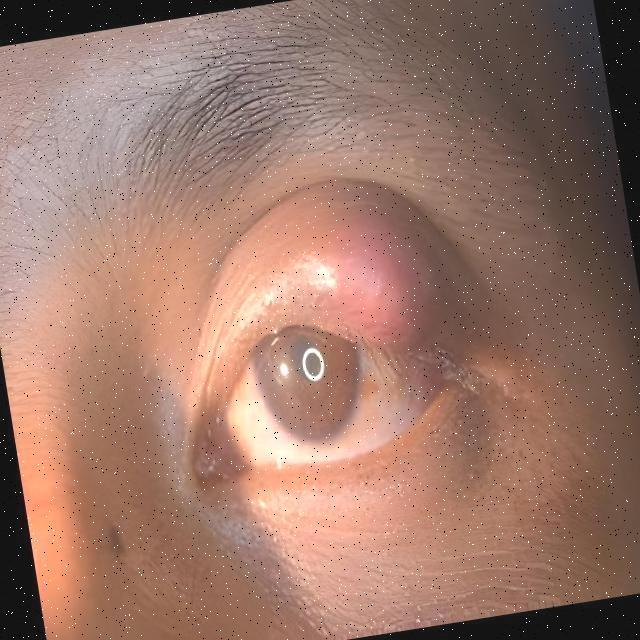Stye: (277, 182, 474, 372)
